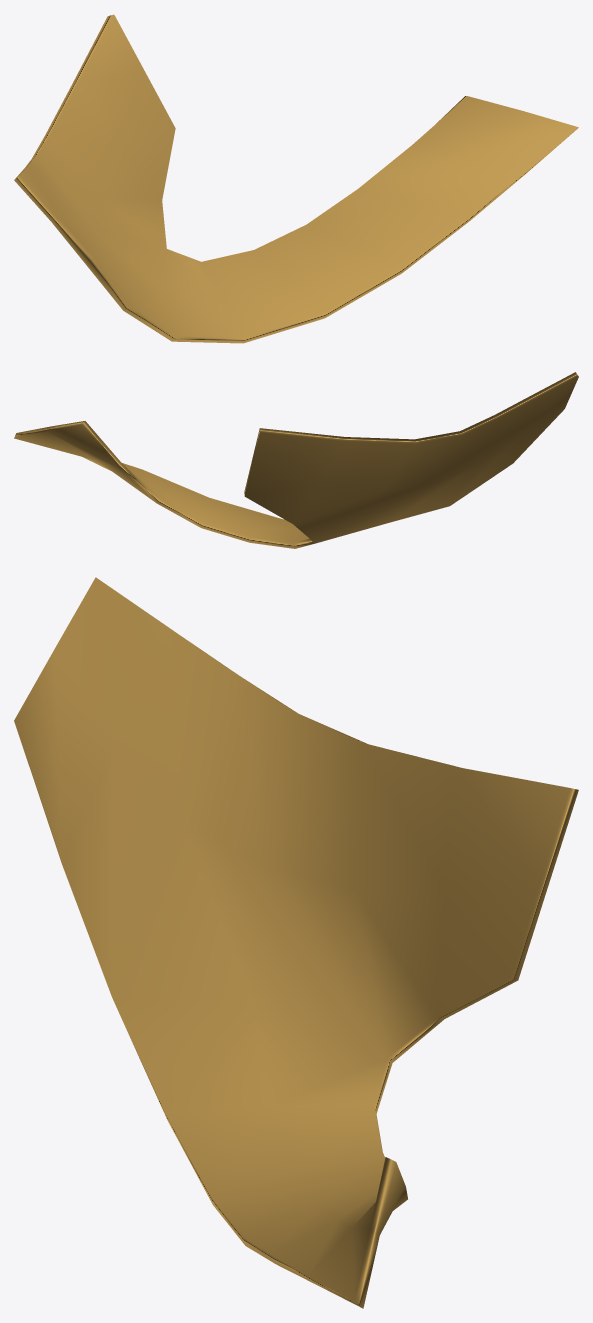
The picture shows the model from 3 angles, top to bottom: view 1: azimuth 30°, elevation 25°; view 2: azimuth 150°, elevation 25°; view 3: azimuth 270°, elevation 25°; orthographic projection. The views are drawn at different scales.
Visible parts, largest first — view 1: 左侧尺侧副韧带; view 2: 左侧尺侧副韧带; view 3: 左侧尺侧副韧带.
Boxes of the visible parts, left/top/right/bottom form: 左侧尺侧副韧带: left=14, top=14, right=578, bottom=343; 左侧尺侧副韧带: left=14, top=372, right=578, bottom=548; 左侧尺侧副韧带: left=14, top=577, right=578, bottom=1308.
Bounding box in the file's own units: 0.0685 × 0.0257 × 0.0347.
